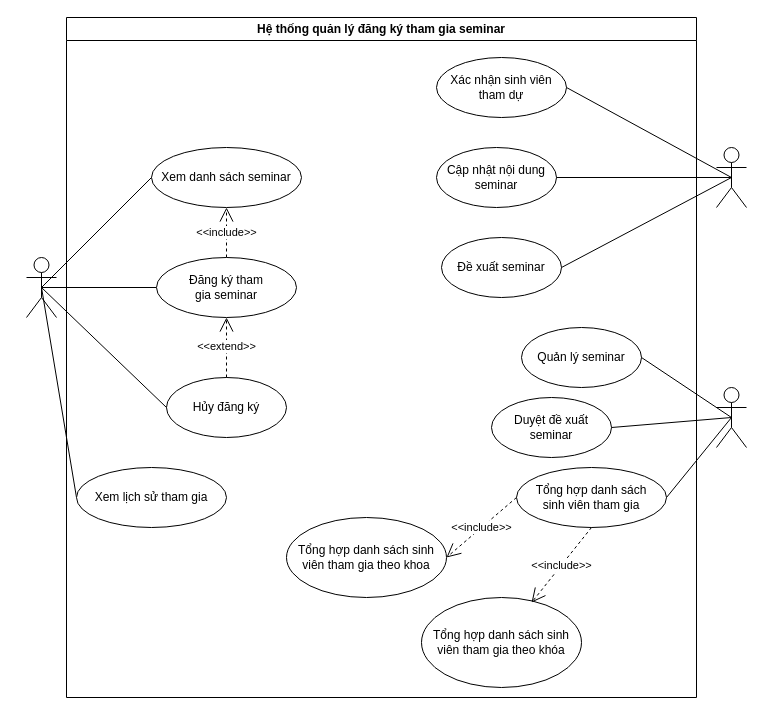
Image size: 783x715. Some labels were removed from this diagram. Here are the shapes that lost their labels. From the top down, the box of each, then its label:
(716, 146, 746, 208): Giảng viên
(26, 256, 56, 318): Sinh viên
(716, 386, 746, 448): Cán bộ khoa
